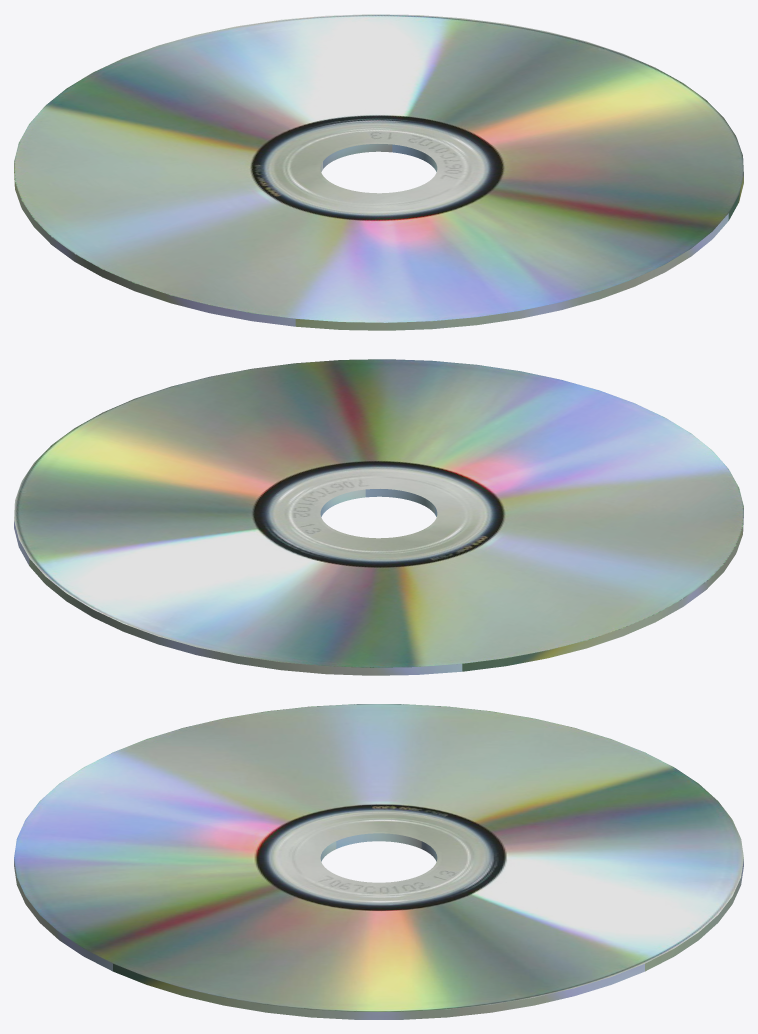
The picture shows the model from 3 angles, top to bottom: view 1: azimuth 30°, elevation 25°; view 2: azimuth 150°, elevation 25°; view 3: azimuth 270°, elevation 25°; orthographic projection.
Parts seen in each view (by area): view 1: Tube001; view 2: Tube001; view 3: Tube001.
Part boxes in pixels (bbox=[...]): Tube001: bbox=[14, 14, 743, 330]; Tube001: bbox=[14, 359, 743, 675]; Tube001: bbox=[14, 704, 743, 1019].
Size of the model in its own units: 49.9 by 0.6 by 50.
Materials: 1 (1 with a texture image).
